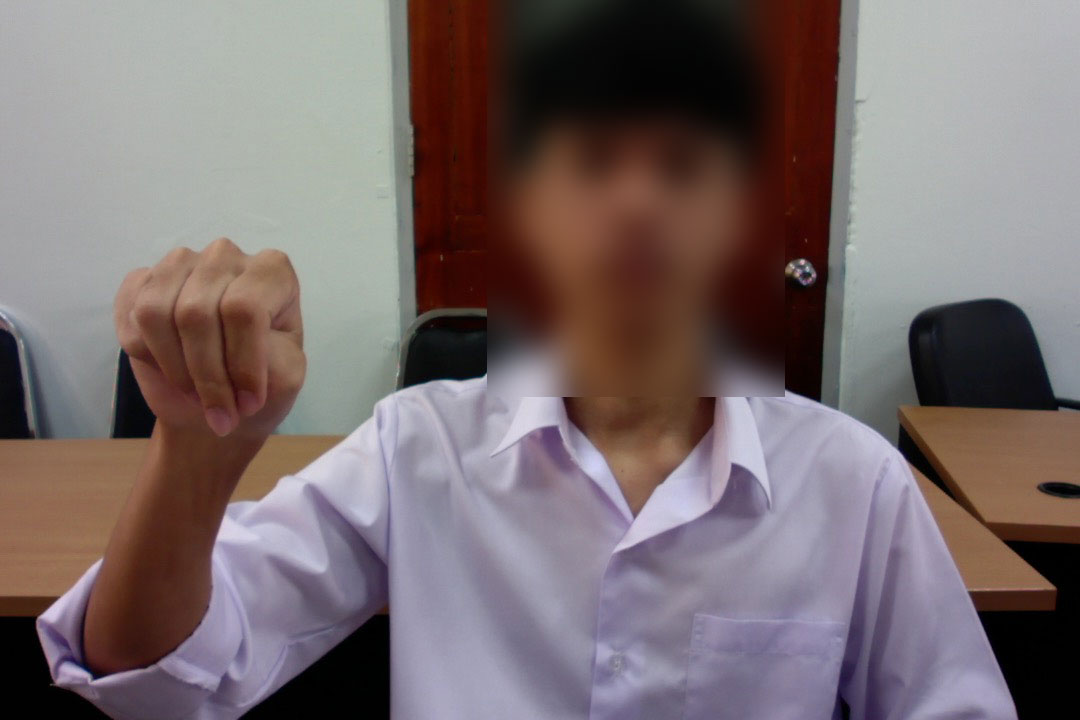mor: (108, 230, 315, 469)
